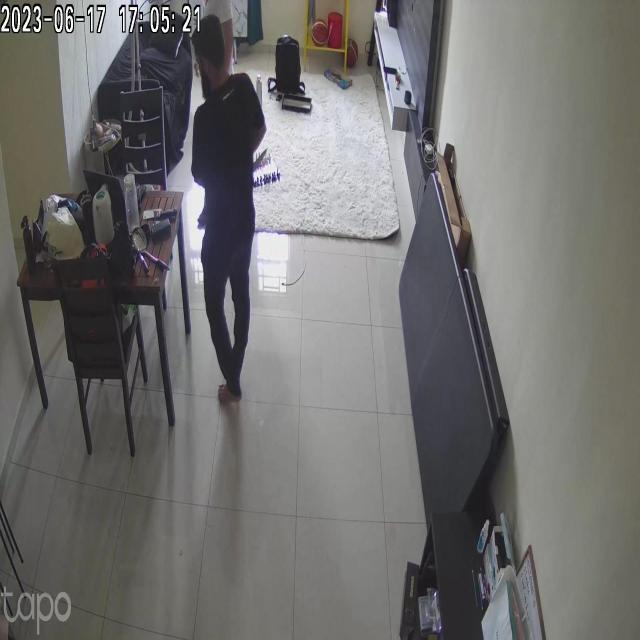Knife: (254, 145, 275, 175)
